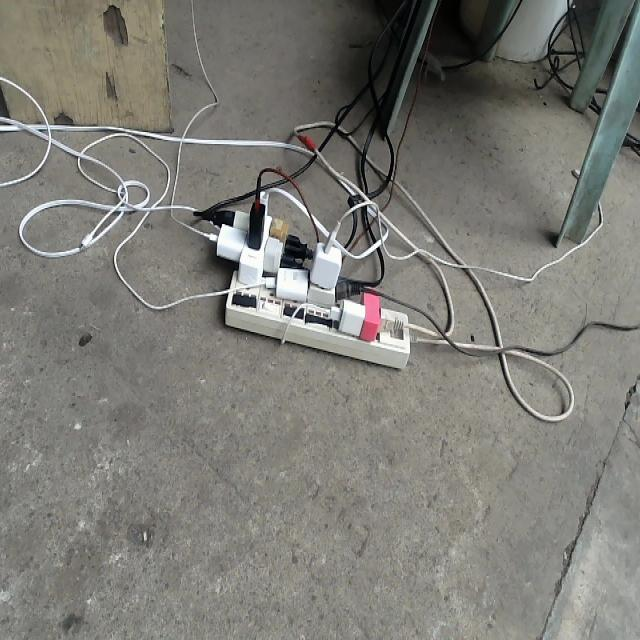-: (214, 188, 411, 371)
